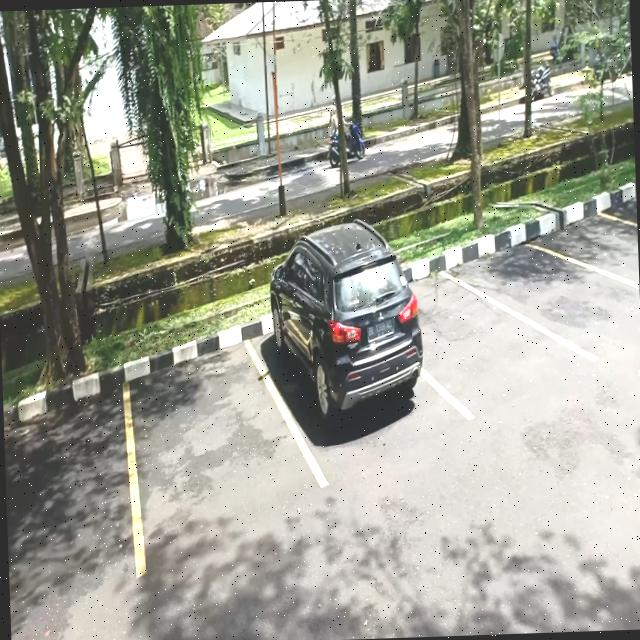empty: (123, 340, 283, 567), (418, 271, 529, 411), (498, 236, 596, 361), (588, 202, 639, 288)
occupied: (271, 282, 433, 455)
